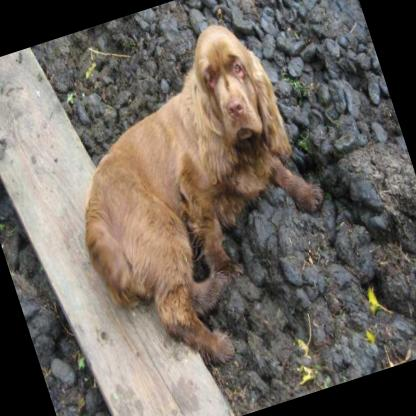Sussex_spaniel: (31, 7, 363, 390)
